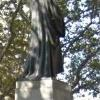Statue: (17, 2, 81, 87)
